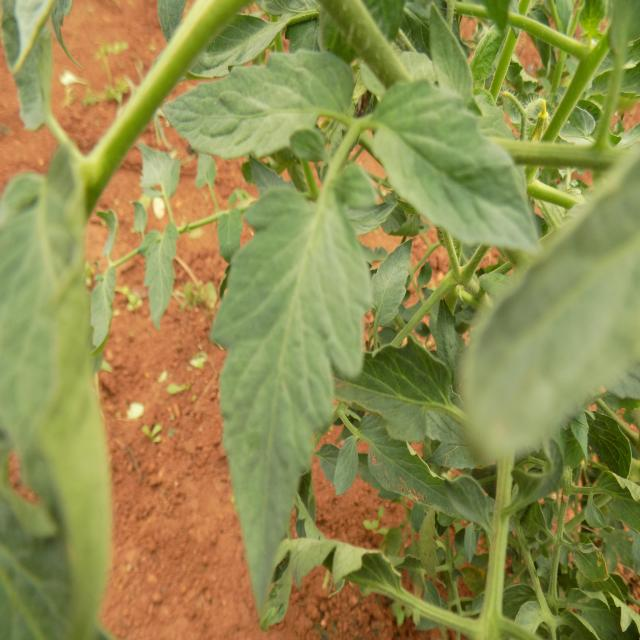tomato_healthy: (211, 178, 371, 616), (364, 73, 539, 261), (163, 45, 353, 165)
